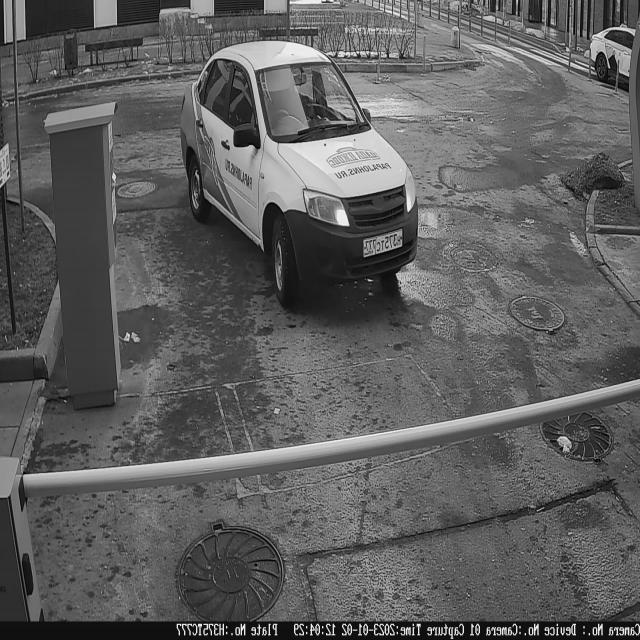car-plate-numbers: (362, 225, 406, 262)
